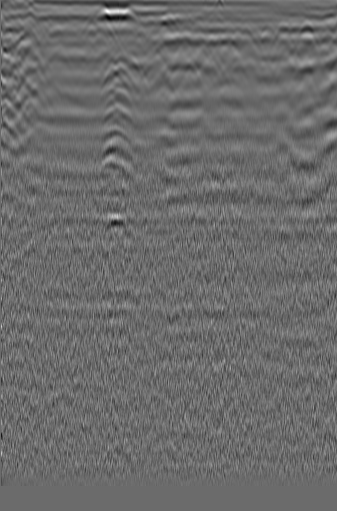가스: (98, 210, 128, 236)
상수: (6, 45, 42, 85)
오수: (285, 39, 323, 77)
우수: (143, 70, 176, 97)
